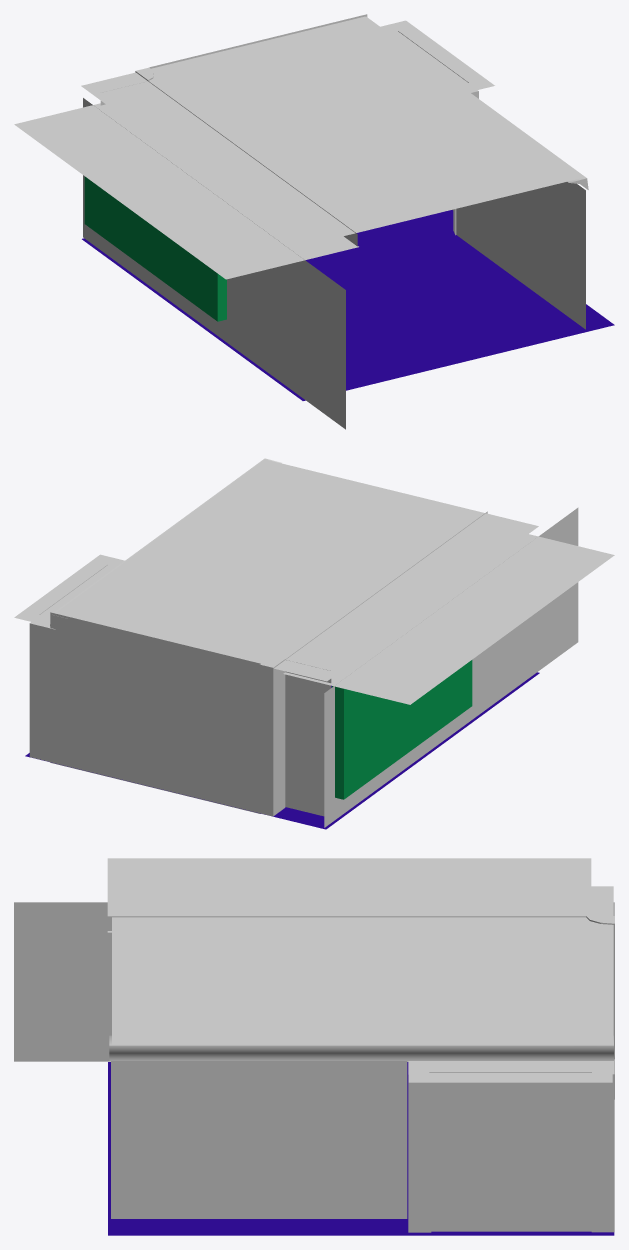
File: BedroomUvModeledSet2.fbx
3 renders of one model, top to bottom at view 1: azimuth 30°, elevation 25°; view 2: azimuth 150°, elevation 25°; view 3: azimuth 270°, elevation 25°, orthographic. The views are drawn at different scales.
Visible parts, largest first — view 1: Set2; view 2: Set2; view 3: Set2.
Boxes of the visible parts, box(x1,y1,x2,y2) form: Set2: box(14, 14, 614, 429); Set2: box(14, 458, 614, 829); Set2: box(14, 858, 614, 1235).
Size of the model in its own units: 1254 by 465 by 1425.
